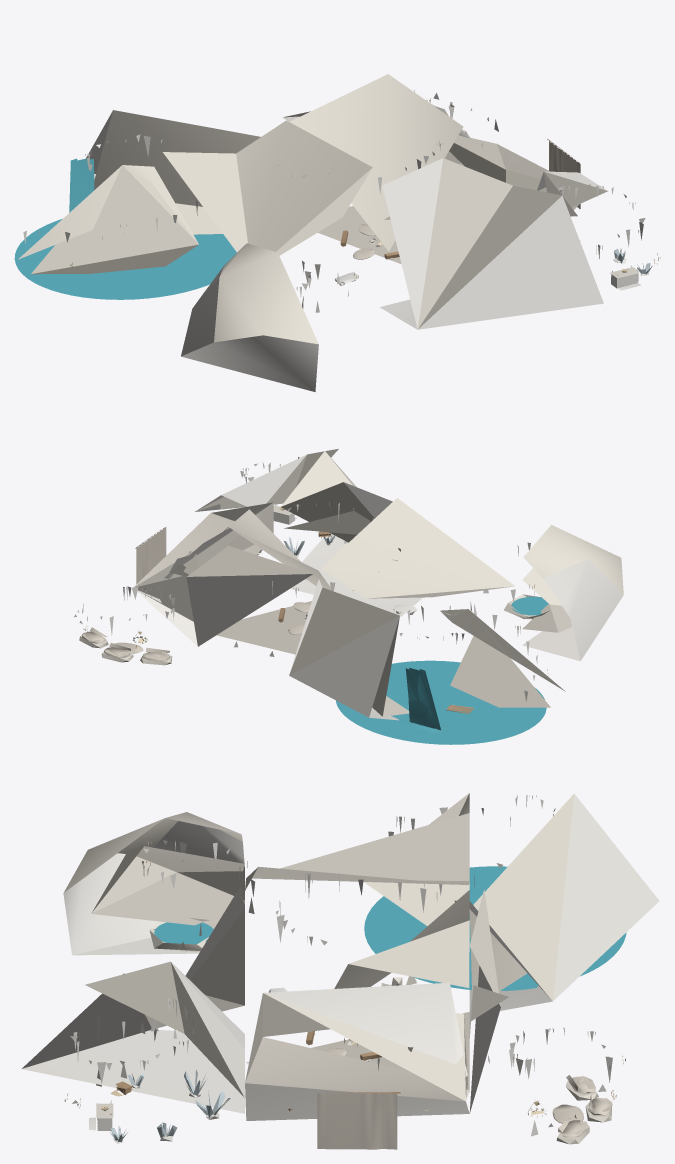
Rendered from Cave_LOD1.dae.
3 views of the same model, one above another, from view 1: azimuth 30°, elevation 25°; view 2: azimuth 150°, elevation 25°; view 3: azimuth 270°, elevation 25° (orthographic). The views are drawn at different scales.
Visible parts, largest first — view 1: Cave_Rock_20_LOD1, Cave_Rock_11_LOD1, Cave_Rock_21_LOD1, Cave_Rock_00_LOD1, Cave_Rock_01_LOD1, Cave_Rock_12_LOD1, Cave_Lake_LOD1, Cave_Rock_31_LOD1, Cave_Rock_30_LOD1, Cave_Waterfall_LOD1, Cave_Curtain_LOD1; view 2: Cave_Rock_11_LOD1, Cave_Rock_12_LOD1, Cave_Rock_00_LOD1, Cave_Lake_LOD1, Cave_Rock_20_LOD1, Cave_Rock_22_LOD1, Cave_Rock_01_LOD1, Cave_Rock_31_LOD1, Cave_Rock_21_LOD1, Cave_Rock_30_LOD1, Cave_Waterfall_LOD1, Cave_Curtain_LOD1 (+2 smaller); view 3: Cave_Rock_31_LOD1, Cave_Rock_12_LOD1, Cave_Rock_00_LOD1, Cave_Rock_20_LOD1, Cave_Rock_11_LOD1, Cave_Rock_30_LOD1, Cave_Rock_21_LOD1, Cave_Curtain_LOD1, Cave_Lake_LOD1, Cave_Rock_01_LOD1, Cave_Rock_22_LOD1, Cave_Rock_32_LOD1 (+6 smaller).
Part boxes in pixels (x1,y1,x2,y2): Cave_Rock_20_LOD1: (380, 158, 603, 329); Cave_Rock_11_LOD1: (163, 120, 372, 255); Cave_Rock_21_LOD1: (289, 74, 463, 263); Cave_Rock_00_LOD1: (181, 243, 318, 391); Cave_Rock_01_LOD1: (18, 165, 198, 274); Cave_Rock_12_LOD1: (86, 110, 260, 234); Cave_Lake_LOD1: (14, 218, 236, 299); Cave_Rock_31_LOD1: (432, 104, 579, 210); Cave_Rock_30_LOD1: (537, 171, 645, 259); Cave_Waterfall_LOD1: (69, 158, 94, 212); Cave_Curtain_LOD1: (547, 139, 580, 208); Cave_Rock_11_LOD1: (321, 498, 515, 624); Cave_Rock_12_LOD1: (289, 579, 409, 720); Cave_Rock_00_LOD1: (522, 525, 623, 661); Cave_Lake_LOD1: (336, 660, 546, 744); Cave_Rock_20_LOD1: (281, 451, 422, 616); Cave_Rock_22_LOD1: (165, 546, 312, 656); Cave_Rock_01_LOD1: (440, 586, 565, 707); Cave_Rock_31_LOD1: (133, 502, 273, 646); Cave_Rock_21_LOD1: (202, 501, 374, 654); Cave_Rock_30_LOD1: (195, 448, 338, 511); Cave_Waterfall_LOD1: (398, 667, 449, 733); Cave_Curtain_LOD1: (135, 527, 166, 583); Cave_Rock_31_LOD1: (245, 982, 469, 1120); Cave_Rock_12_LOD1: (469, 793, 659, 1012); Cave_Rock_00_LOD1: (63, 812, 244, 955); Cave_Rock_20_LOD1: (22, 885, 244, 1113); Cave_Rock_11_LOD1: (245, 813, 469, 913); Cave_Rock_30_LOD1: (70, 961, 244, 1103); Cave_Rock_21_LOD1: (246, 890, 469, 1092); Cave_Curtain_LOD1: (317, 1092, 400, 1149); Cave_Lake_LOD1: (364, 866, 626, 990); Cave_Rock_01_LOD1: (247, 793, 469, 925); Cave_Rock_22_LOD1: (469, 889, 564, 1113); Cave_Rock_32_LOD1: (469, 985, 612, 1136).
Size of the model in its own units: 45.89 by 37.43 by 14.53.
